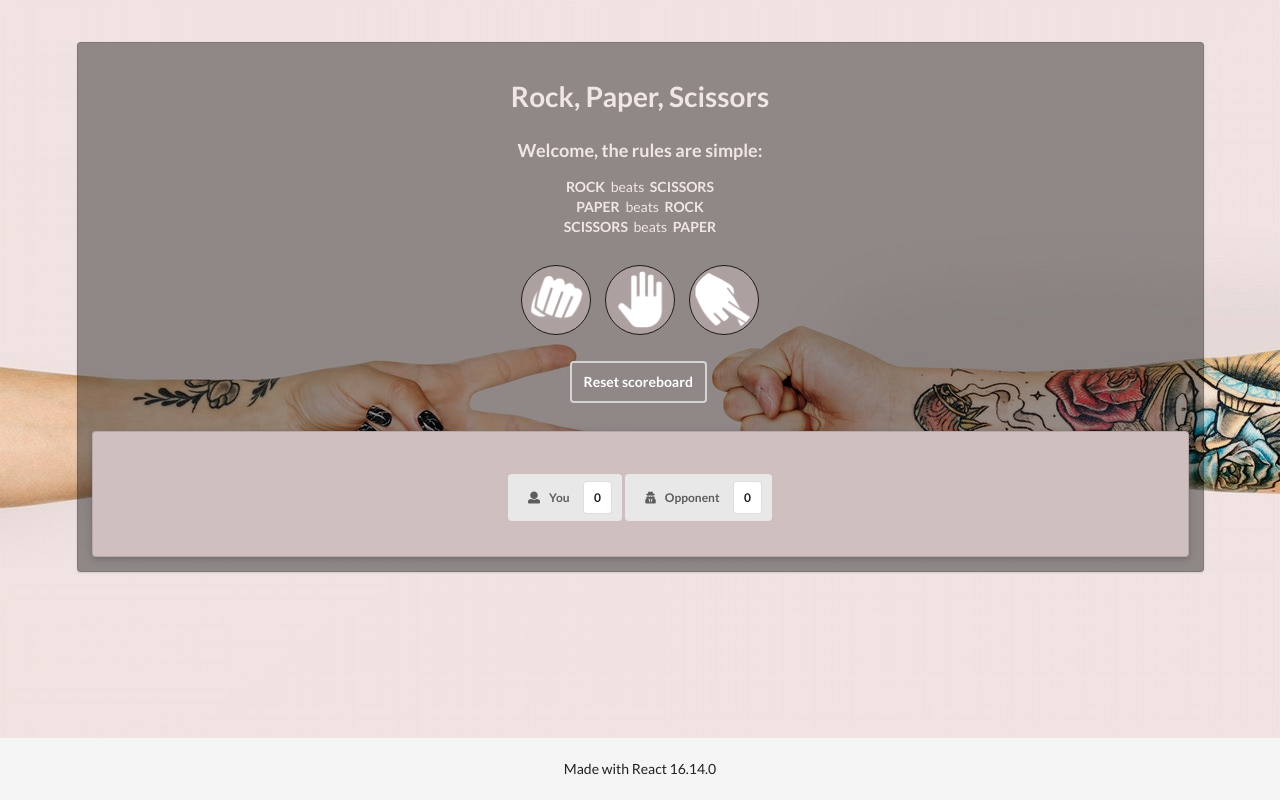
When visiting the home page › Playing the game › displays the Player's choice
The image size is (1280, 800).
Click the picture with id "rock-btn" at (556, 300), box [521,265,591,335]
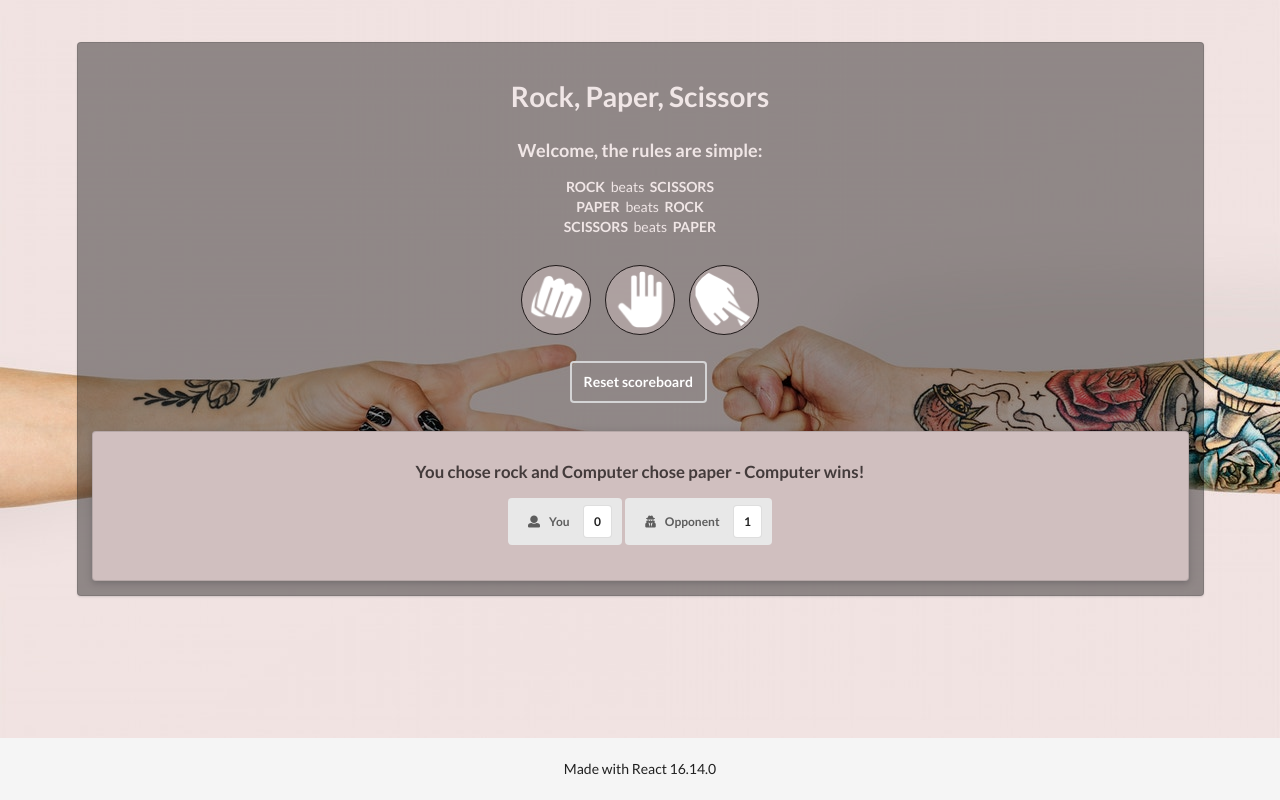
Now the text "You chose rock" is shown, box [415,461,864,482]
Click the picture named "Paper" at (640, 300), box [605,265,675,335]
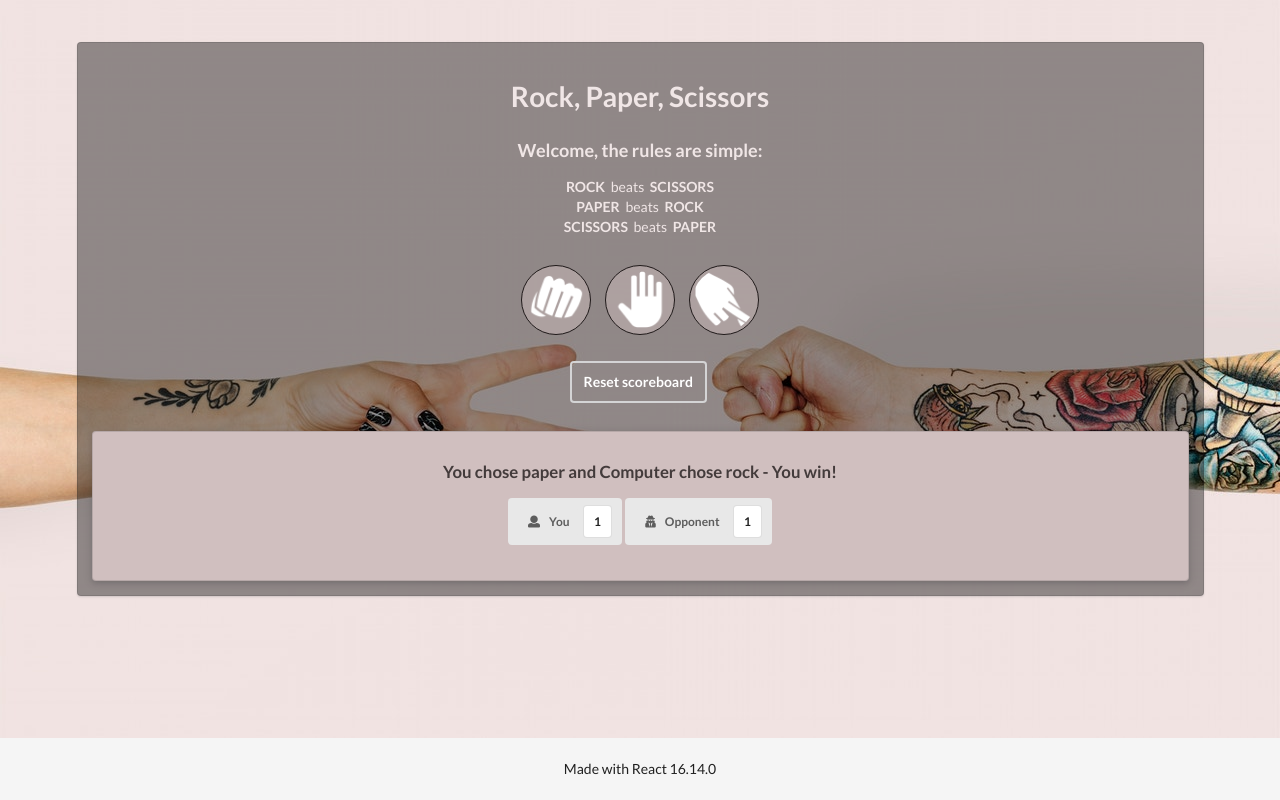
Now the text "You chose paper" is shown, box [443,461,837,482]
Click the picture named "Scissors" at (724, 300), box [689,265,759,335]
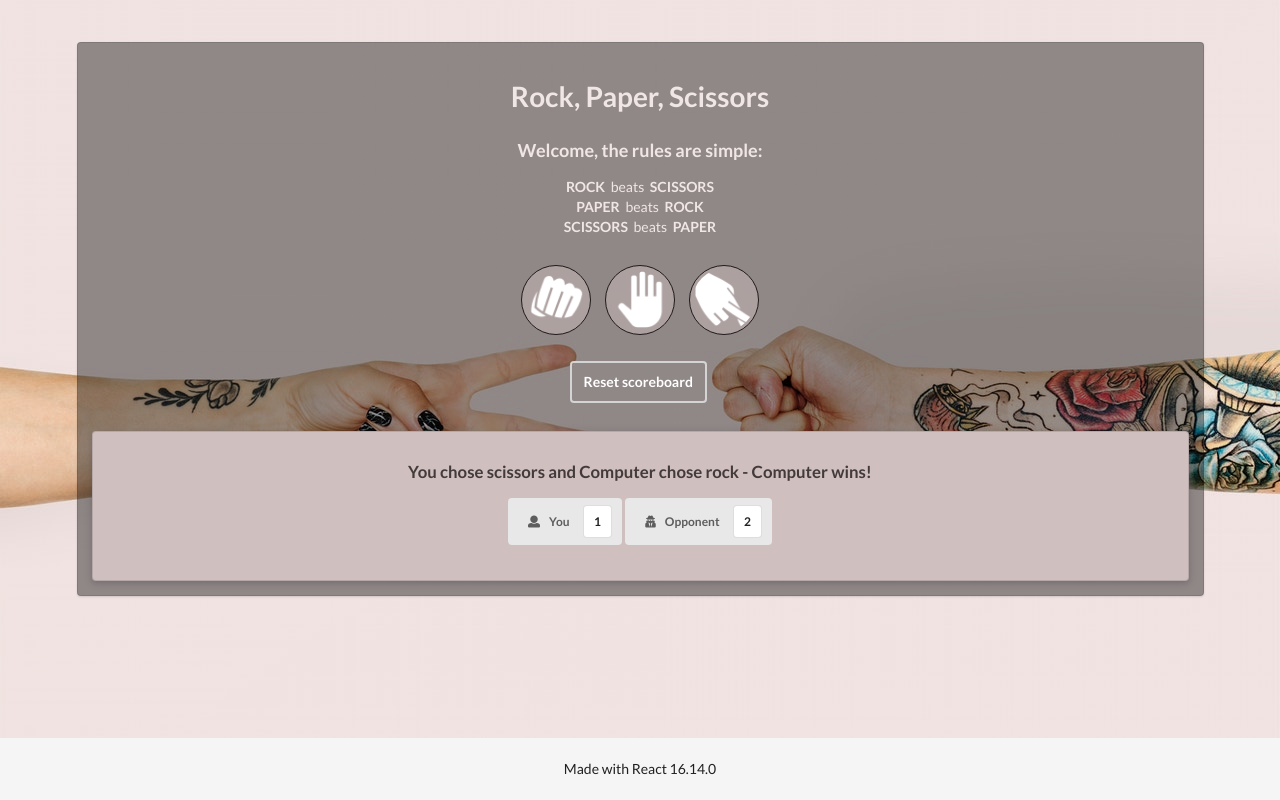
Now the text "You chose scissors" is shown, box [408,461,872,482]
